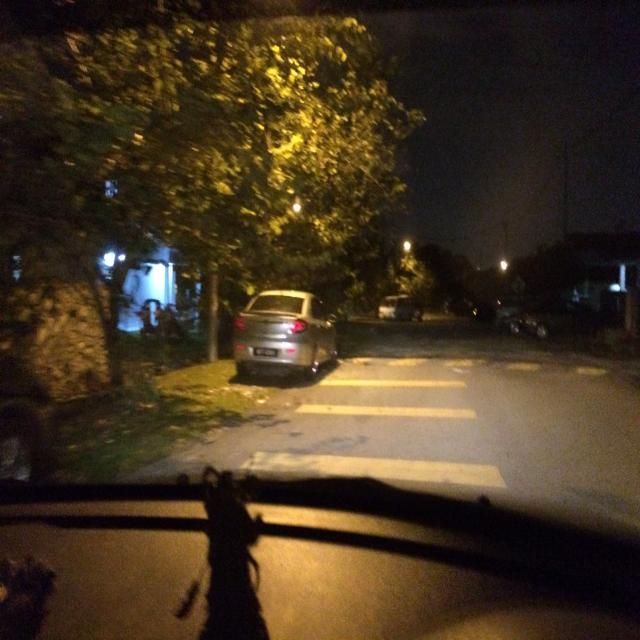Car: (231, 285, 340, 374)
